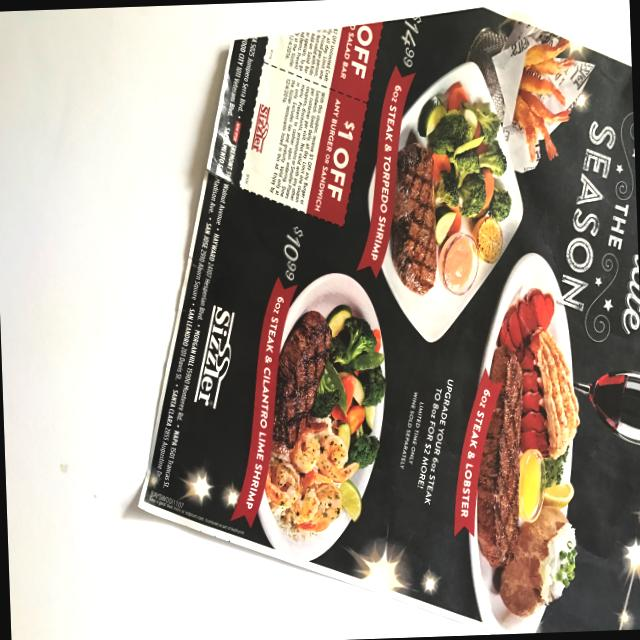Paper: (120, 1, 640, 640)
